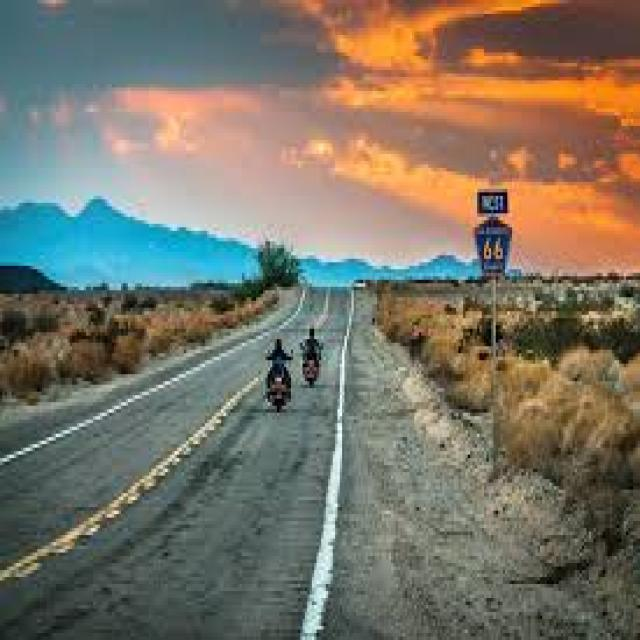MOTORCYCLE: (268, 354, 289, 409), (301, 346, 321, 386)
